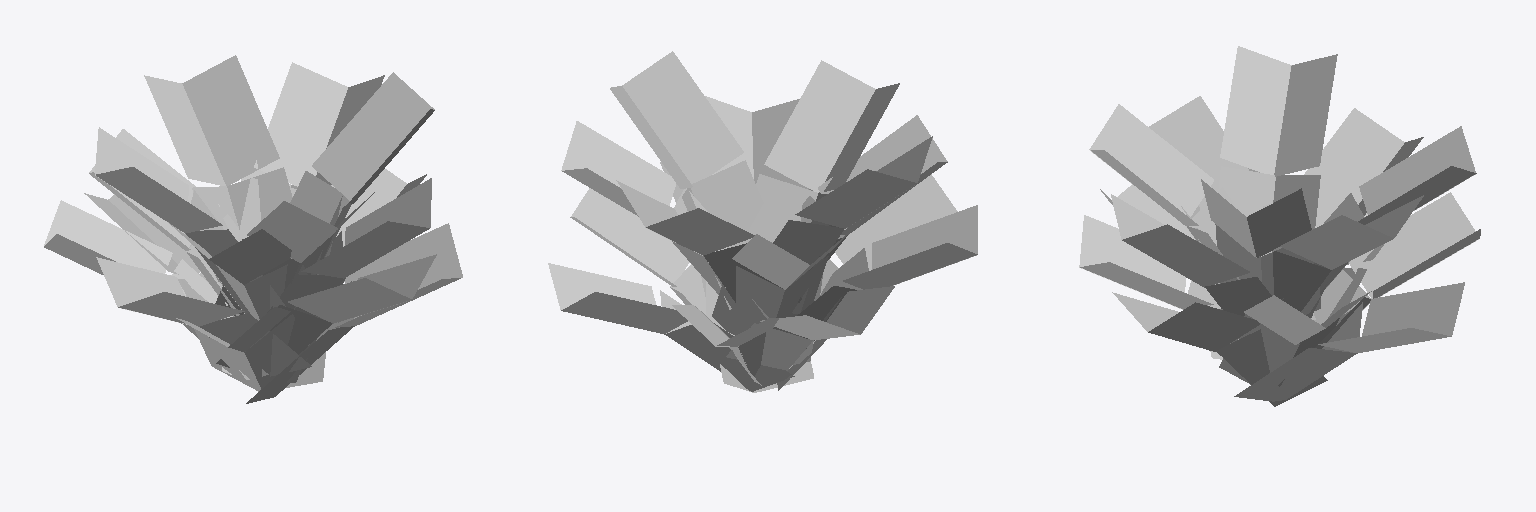
The model's file is mt_cycad_upper.obj.
3 views of the same model, side by side, from view 1: azimuth 30°, elevation 25°; view 2: azimuth 150°, elevation 25°; view 3: azimuth 270°, elevation 25° (orthographic).
Visible parts, largest first — view 1: cube; view 2: cube; view 3: cube.
Boxes of the visible parts, <box> form: cube: <box>44,55,462,403</box>; cube: <box>548,51,977,392</box>; cube: <box>1079,46,1480,406</box>.
Bounding box in the file's own units: 3.23 × 2.53 × 3.22.